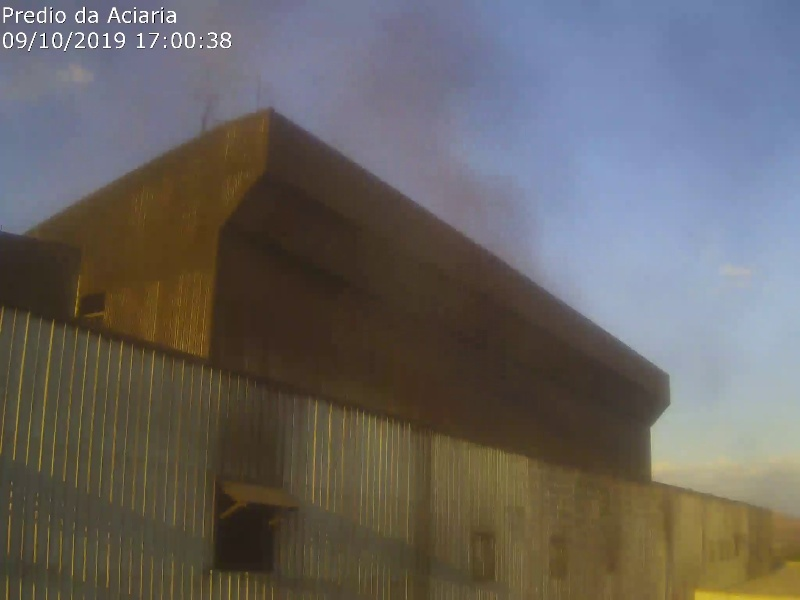pessimo: (176, 2, 591, 445)
